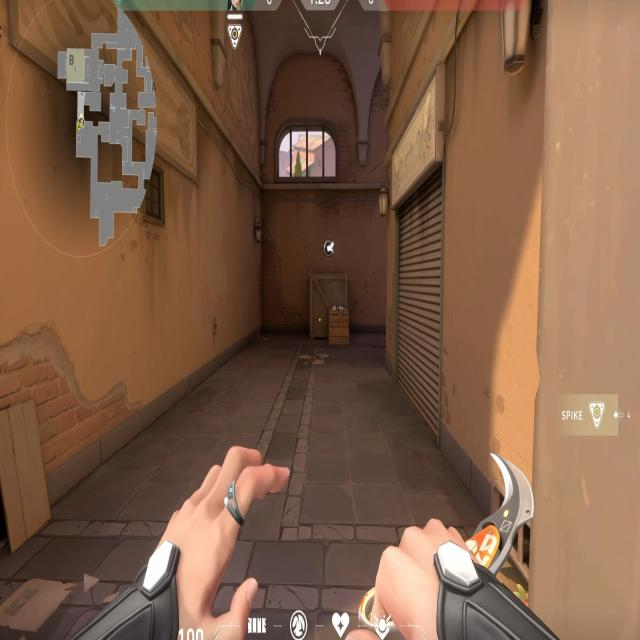B_Cubby: (300, 228, 357, 354)
Throwables: (272, 115, 343, 188)
